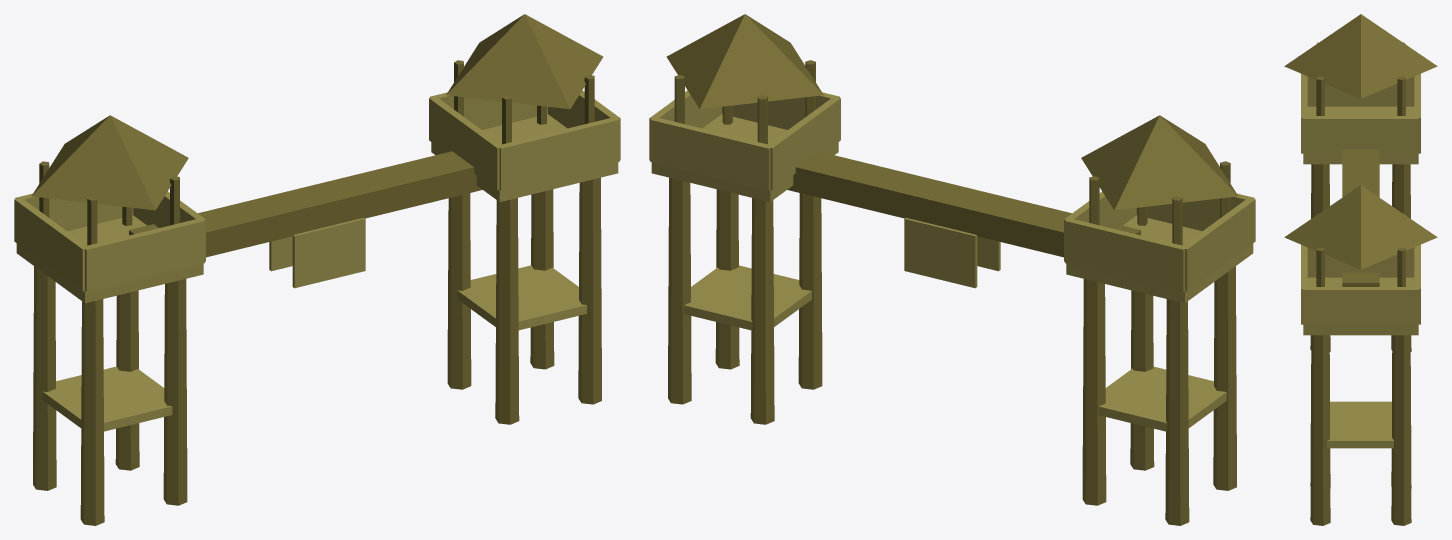
Rendered from frog_gate.glb.
The picture shows the model from 3 angles, left to right: view 1: azimuth 30°, elevation 25°; view 2: azimuth 150°, elevation 25°; view 3: azimuth 270°, elevation 25°; orthographic projection. The views are drawn at different scales.
Visible parts, largest first — view 1: frog_gate; view 2: frog_gate; view 3: frog_gate.
Boxes of the visible parts, x1,y1,x2,y2 form: frog_gate: (14, 14, 620, 525); frog_gate: (649, 14, 1255, 525); frog_gate: (1284, 14, 1437, 525).
Size of the model in its own units: 4.83 by 3.05 by 1.33.
